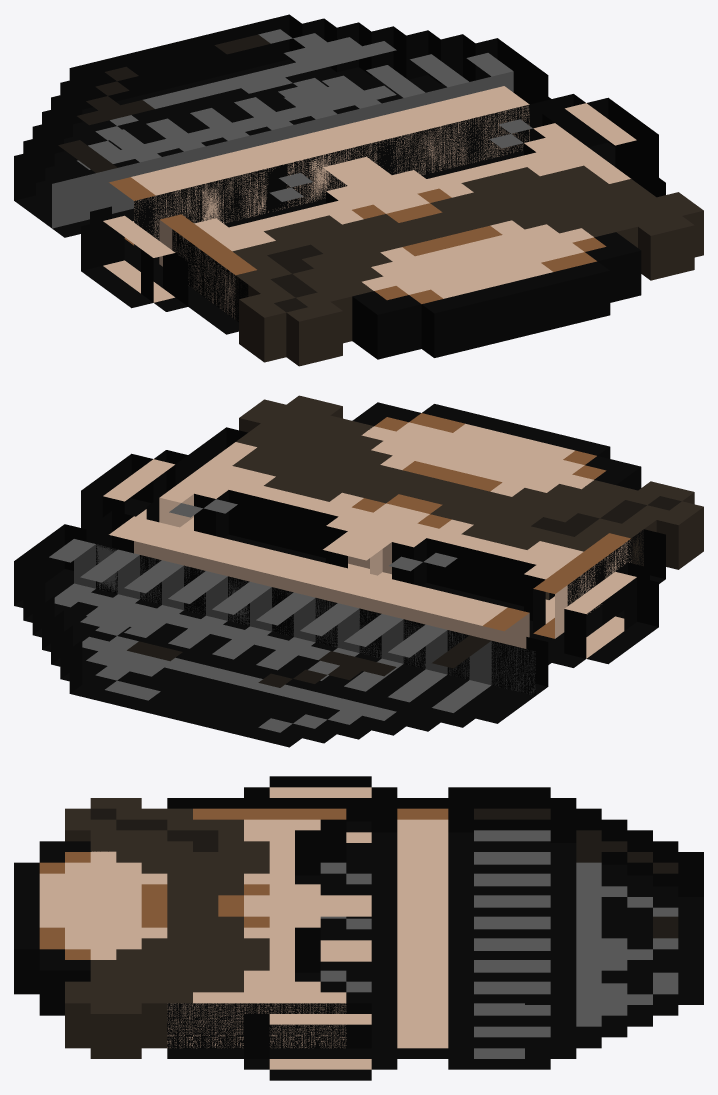
Rendered from banana-v1.glb.
3 views of the same model, one above another, from view 1: azimuth 30°, elevation 25°; view 2: azimuth 150°, elevation 25°; view 3: azimuth 270°, elevation 25° (orthographic).
Visible parts, largest first — view 1: Cholo; view 2: Cholo; view 3: Cholo.
Part boxes in pixels (bbox=[...]): Cholo: bbox=[14, 14, 703, 366]; Cholo: bbox=[14, 395, 703, 747]; Cholo: bbox=[14, 776, 703, 1080].
Bounding box in the file's own units: 6.17 × 0.5 × 6.95.
